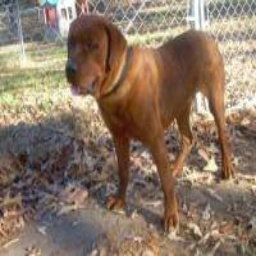dog: (64, 13, 240, 234)
